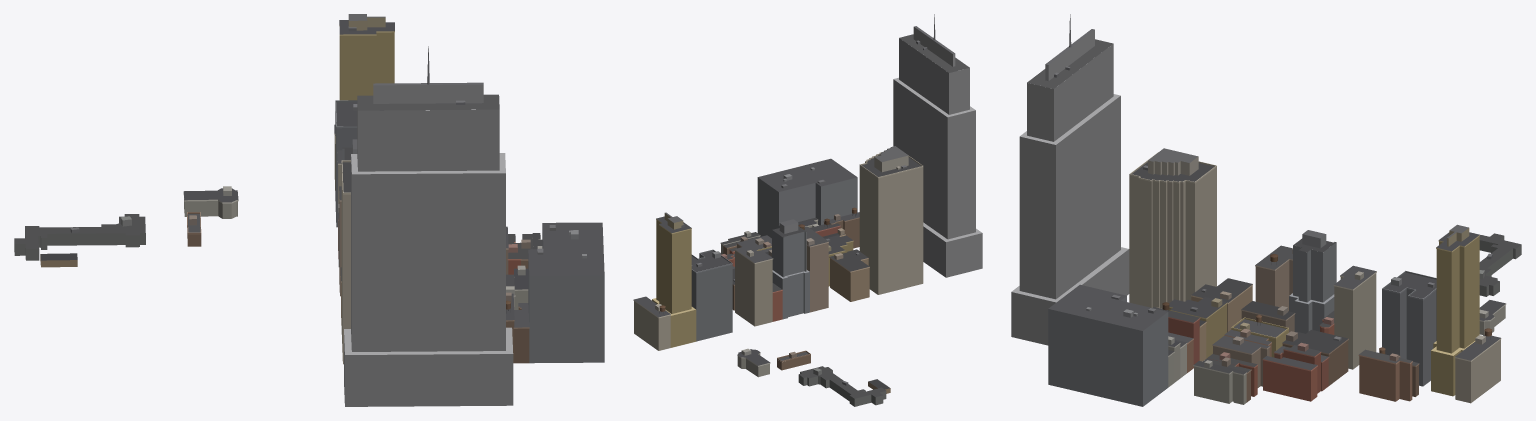
Rendered from 4_3.bld.glb.
The picture shows the model from 3 angles, left to right: view 1: azimuth 30°, elevation 25°; view 2: azimuth 150°, elevation 25°; view 3: azimuth 270°, elevation 25°; orthographic projection. The views are drawn at different scales.
Visible parts, largest first — view 1: 4_3; view 2: 4_3; view 3: 4_3.
Part boxes in pixels (left/top/right/bottom): 4_3: left=14, top=14, right=604, bottom=406; 4_3: left=633, top=14, right=982, bottom=406; 4_3: left=1011, top=14, right=1521, bottom=406.
Bounding box in the file's own units: 218 × 187 × 288.
